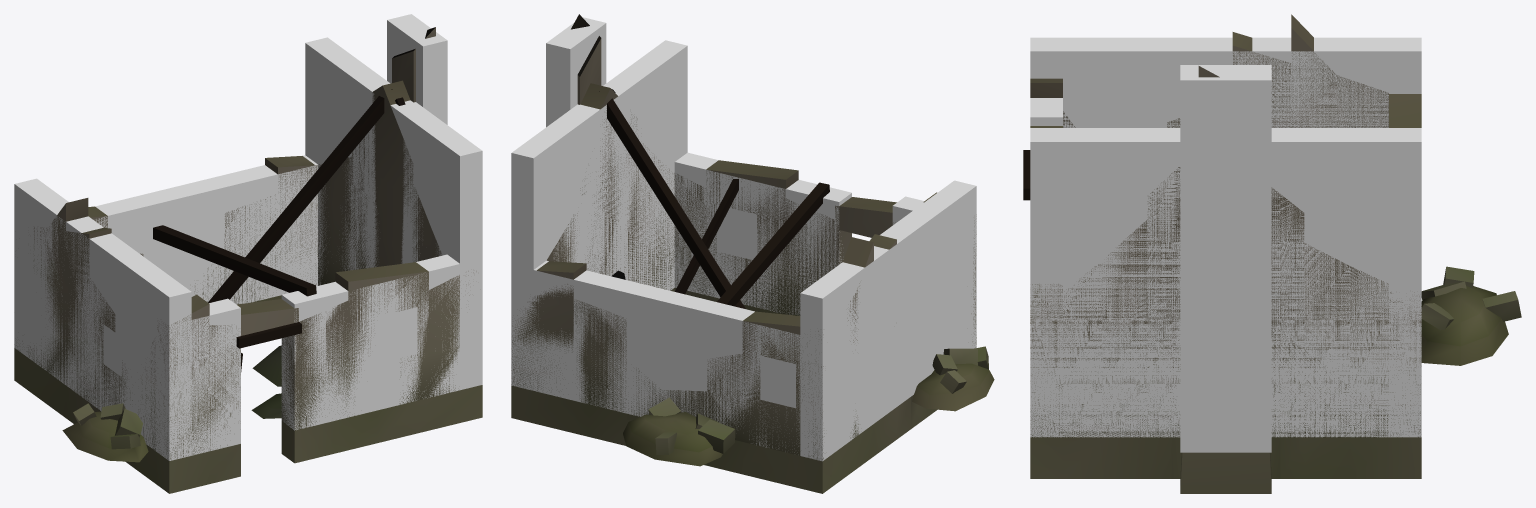
File: ruin_house.glb
The picture shows the model from 3 angles, left to right: view 1: azimuth 30°, elevation 25°; view 2: azimuth 150°, elevation 25°; view 3: azimuth 270°, elevation 25°; orthographic projection. The views are drawn at different scales.
Parts seen in each view (by area): view 1: ruin_house, COL_left, COL_right, COL_front_r, COL_back, COL_front_l, COL_chimney; view 2: ruin_house, COL_back, COL_left, COL_right, COL_front_r, COL_chimney, COL_front_l; view 3: COL_right, ruin_house, COL_chimney, COL_left, COL_back, COL_front_r, COL_front_l.
Part boxes in pixels (left/top/right/bottom): ruin_house: left=14, top=27, right=482, bottom=493; COL_left: left=14, top=178, right=191, bottom=460; COL_right: left=305, top=37, right=482, bottom=390; COL_front_r: left=281, top=254, right=482, bottom=430; COL_back: left=14, top=155, right=317, bottom=356; COL_front_l: left=156, top=298, right=240, bottom=460; COL_chimney: left=387, top=14, right=447, bottom=124; ruin_house: left=511, top=14, right=994, bottom=493; COL_back: left=511, top=260, right=832, bottom=461; COL_left: left=800, top=180, right=976, bottom=460; COL_right: left=511, top=40, right=687, bottom=385; COL_front_r: left=674, top=152, right=851, bottom=315; COL_chimney: left=546, top=17, right=606, bottom=127; COL_front_l: left=892, top=196, right=976, bottom=348; COL_right: left=1030, top=128, right=1421, bottom=437; ruin_house: left=1023, top=14, right=1521, bottom=493; COL_chimney: left=1180, top=65, right=1271, bottom=452; COL_left: left=1030, top=37, right=1421, bottom=127; COL_back: left=1389, top=283, right=1421, bottom=437; COL_front_r: left=1030, top=278, right=1062, bottom=417; COL_front_l: left=1030, top=98, right=1062, bottom=125.
Bounding box in the file's own units: 8.69 × 7.2 × 7.64.
